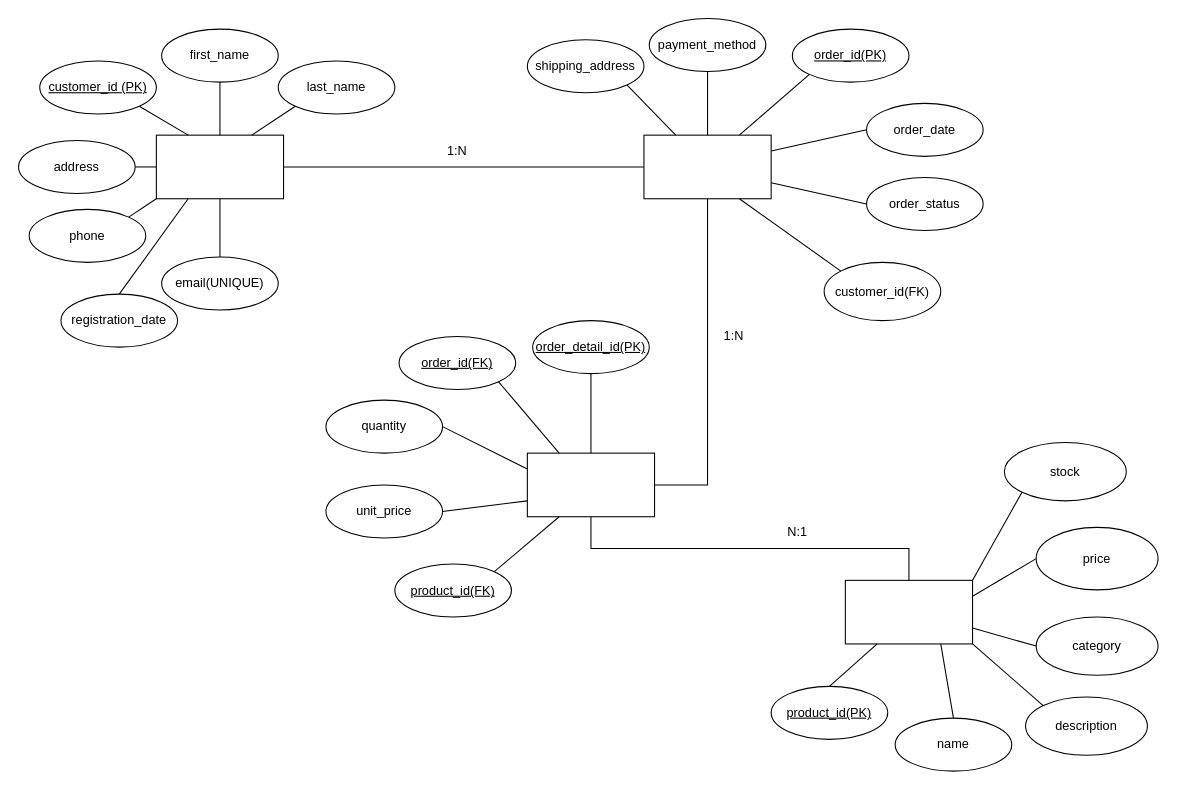
The diagram is 1177 pixels wide and 790 high, and some of its shapes have lost their labels. The shapes that lost their labels are listed below. From the top down, each one's box as (x1, y1, x2, y2) in pixels, then its label:
(155, 134, 284, 199): Customer
(643, 134, 771, 199): Orders
(526, 452, 655, 517): orders_detail
(844, 579, 973, 644): Product
